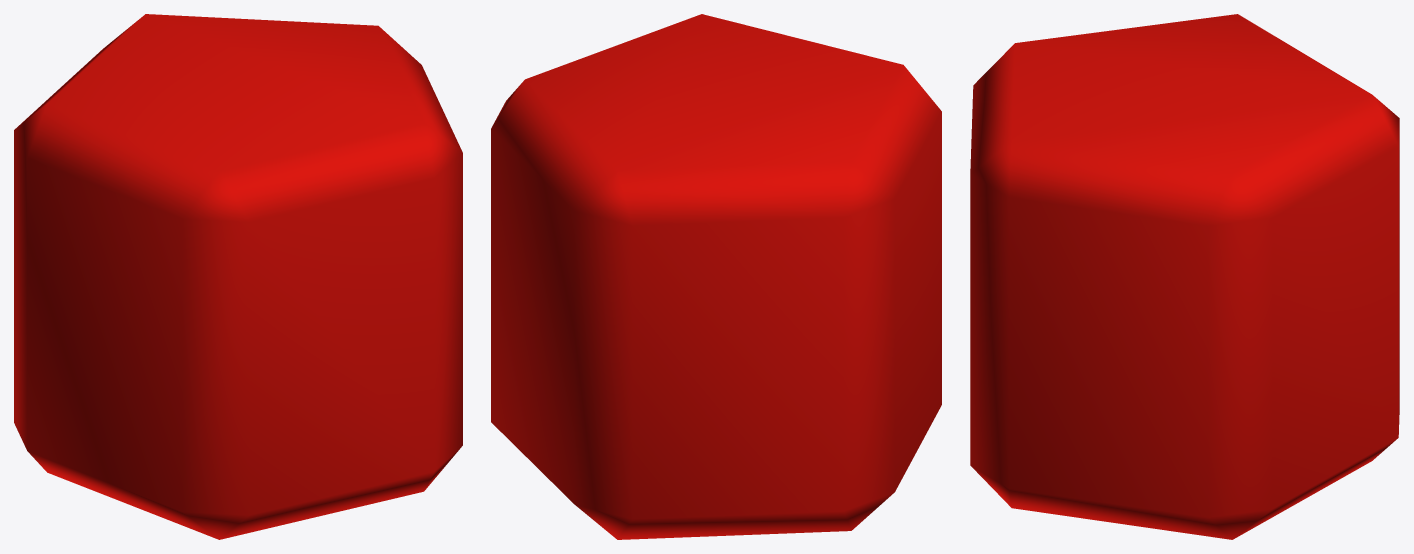
Rendered from Gummy_Stump.glb.
3 views of the same model, side by side, from view 1: azimuth 30°, elevation 25°; view 2: azimuth 150°, elevation 25°; view 3: azimuth 270°, elevation 25° (orthographic).
Parts seen in each view (by area): view 1: Gummy_Stump_0; view 2: Gummy_Stump_0; view 3: Gummy_Stump_0.
Boxes of the visible parts, x1,y1,x2,y2 form: Gummy_Stump_0: [14, 14, 462, 539]; Gummy_Stump_0: [491, 14, 941, 539]; Gummy_Stump_0: [970, 14, 1399, 539].
Size of the model in its own units: 0.7555 by 0.68 by 0.7219.
